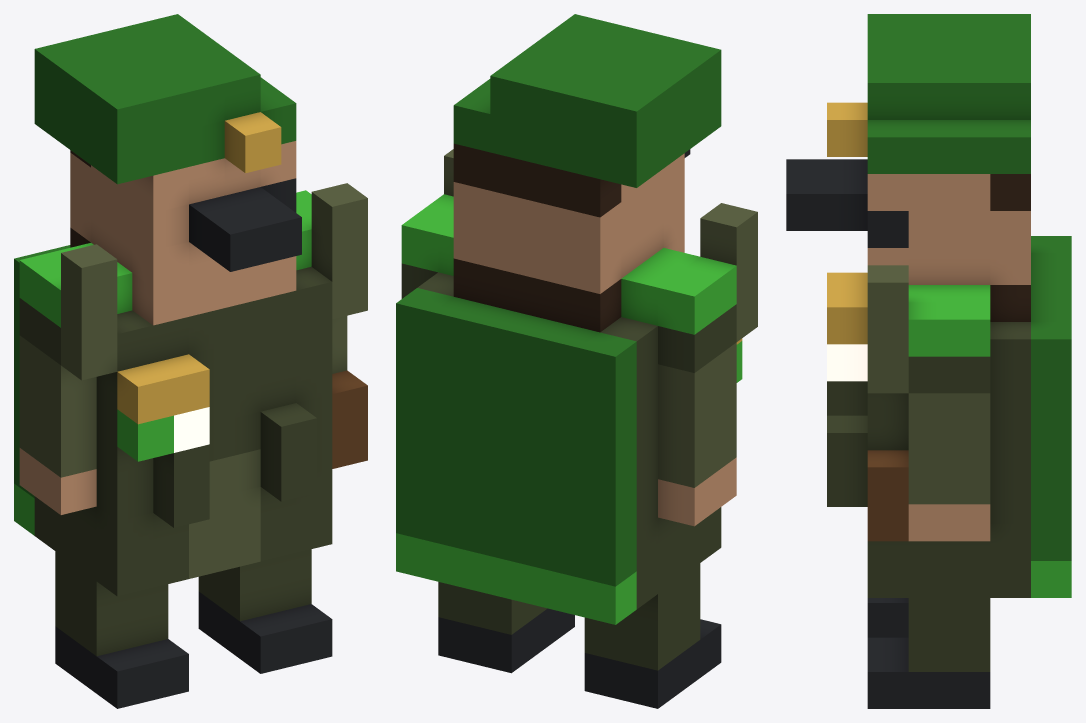
The model's file is cm_hero_3.glb.
3 renders of one model, left to right at view 1: azimuth 30°, elevation 25°; view 2: azimuth 150°, elevation 25°; view 3: azimuth 270°, elevation 25°, orthographic. The views are drawn at different scales.
Visible parts, largest first — view 1: cm_hero_3_body; view 2: cm_hero_3_body; view 3: cm_hero_3_body.
Part boxes in pixels (box(x1,y1,x2,y2)): cm_hero_3_body: box(14, 14, 367, 708); cm_hero_3_body: box(396, 14, 757, 708); cm_hero_3_body: box(786, 14, 1071, 708).
Bounding box in the file's own units: 0.5 × 1 × 0.4375.
Materials: 1 (1 with a texture image).
